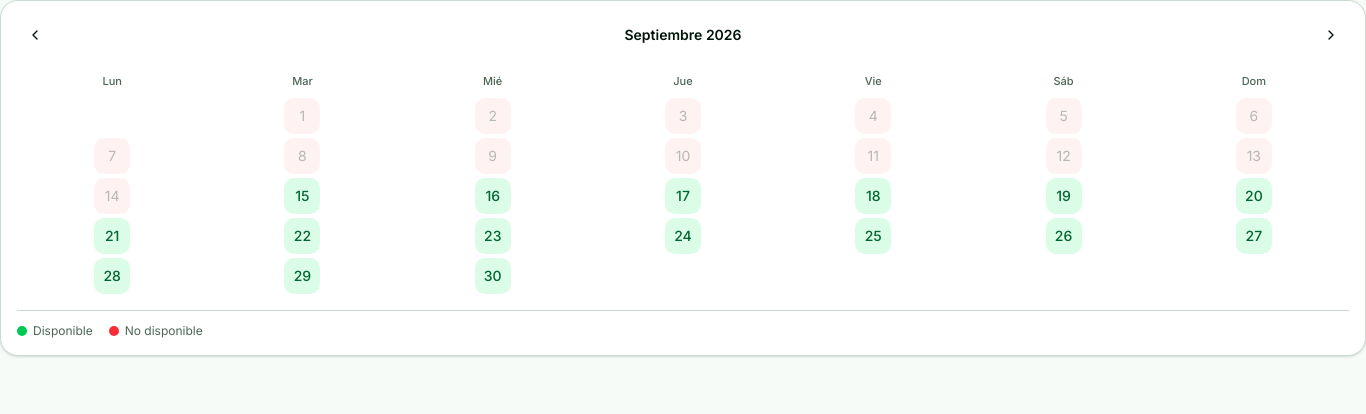
Test: BlockedDatesPicker › navigates to the next and previous month
Click the button named "Mes siguiente" at (1331,35), box [1313,17,1349,53]
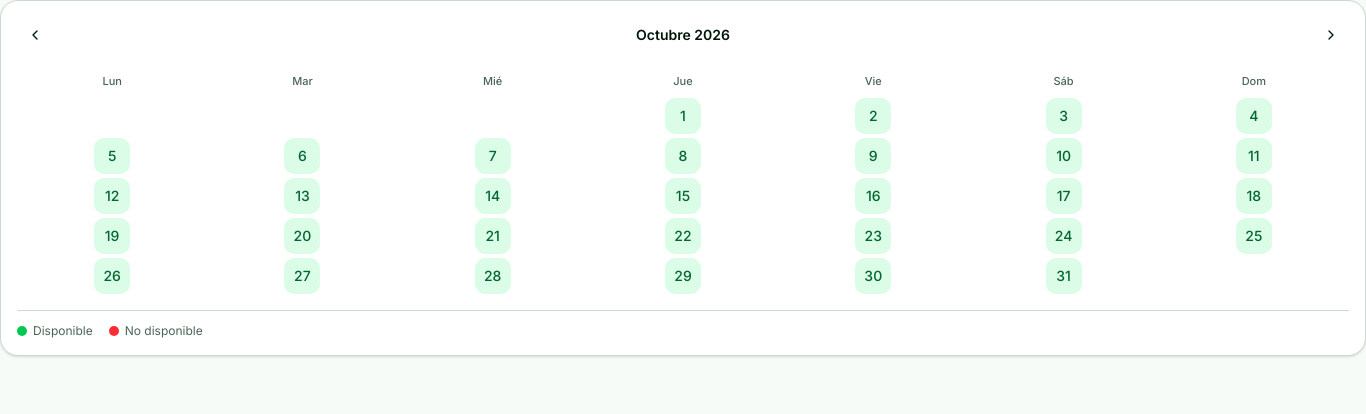
Expected: the text "Octubre 2026" is shown, [636,25,730,45]
Click the button named "Mes anterior" at (35,35), box [17,17,53,53]
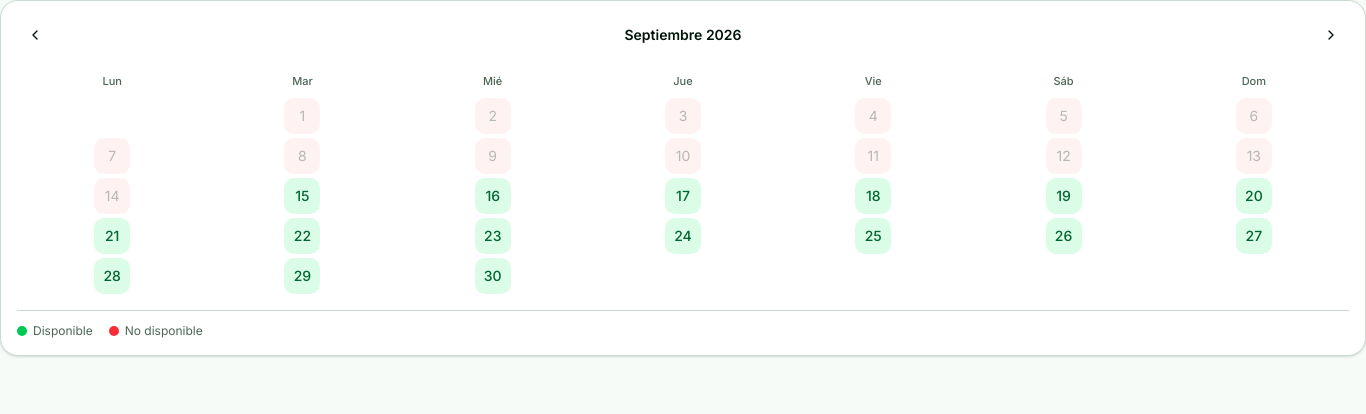
Click the button named "Mes anterior" at (35,35), box [17,17,53,53]
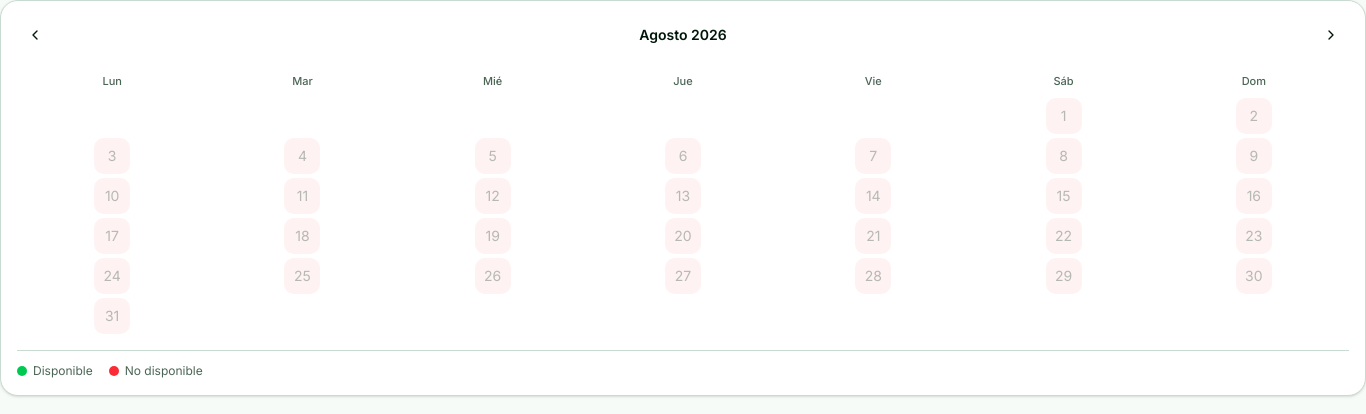
Expected: the text "Agosto 2026" is shown, [639,25,727,45]
